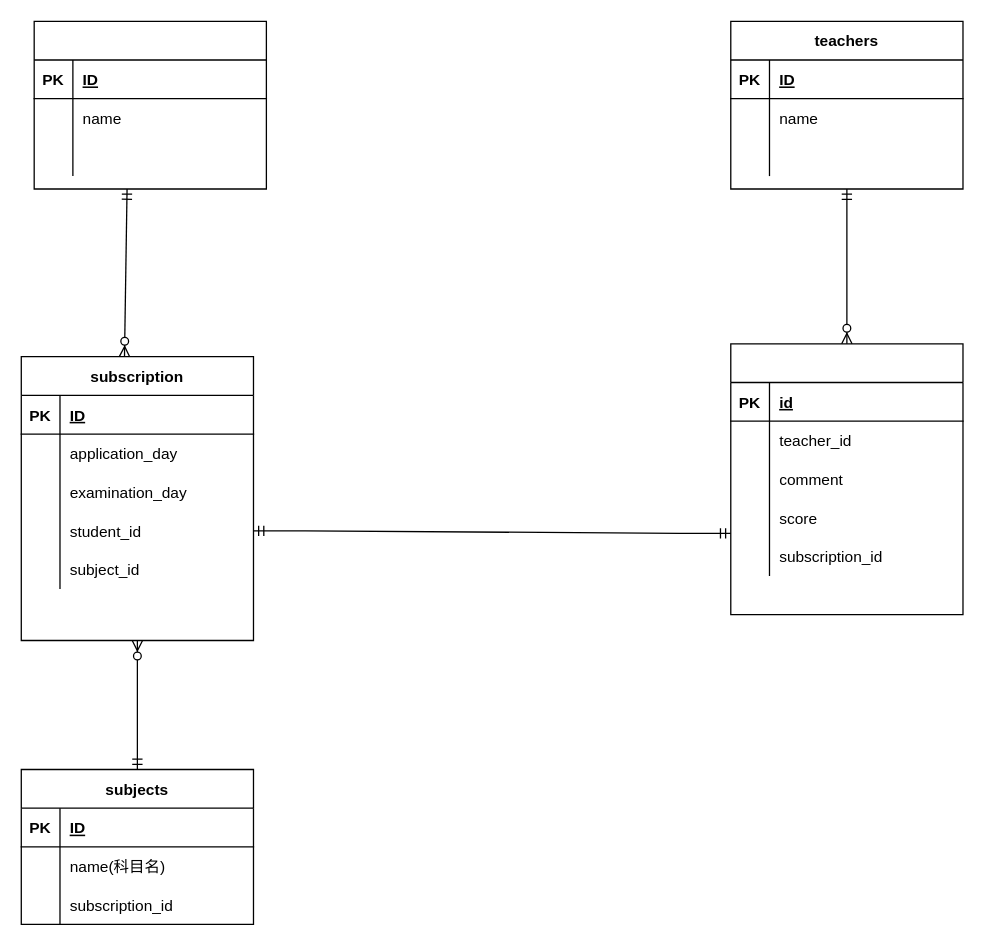
The diagram is 984 pixels wide and 946 high, and some of its shapes have lost their labels. The shapes that lost their labels are listed below. From the top down, each one's box as (x1, y1, x2, y2) in pixels, then its label:
(33, 20, 266, 189): students
(729, 342, 963, 615): result
